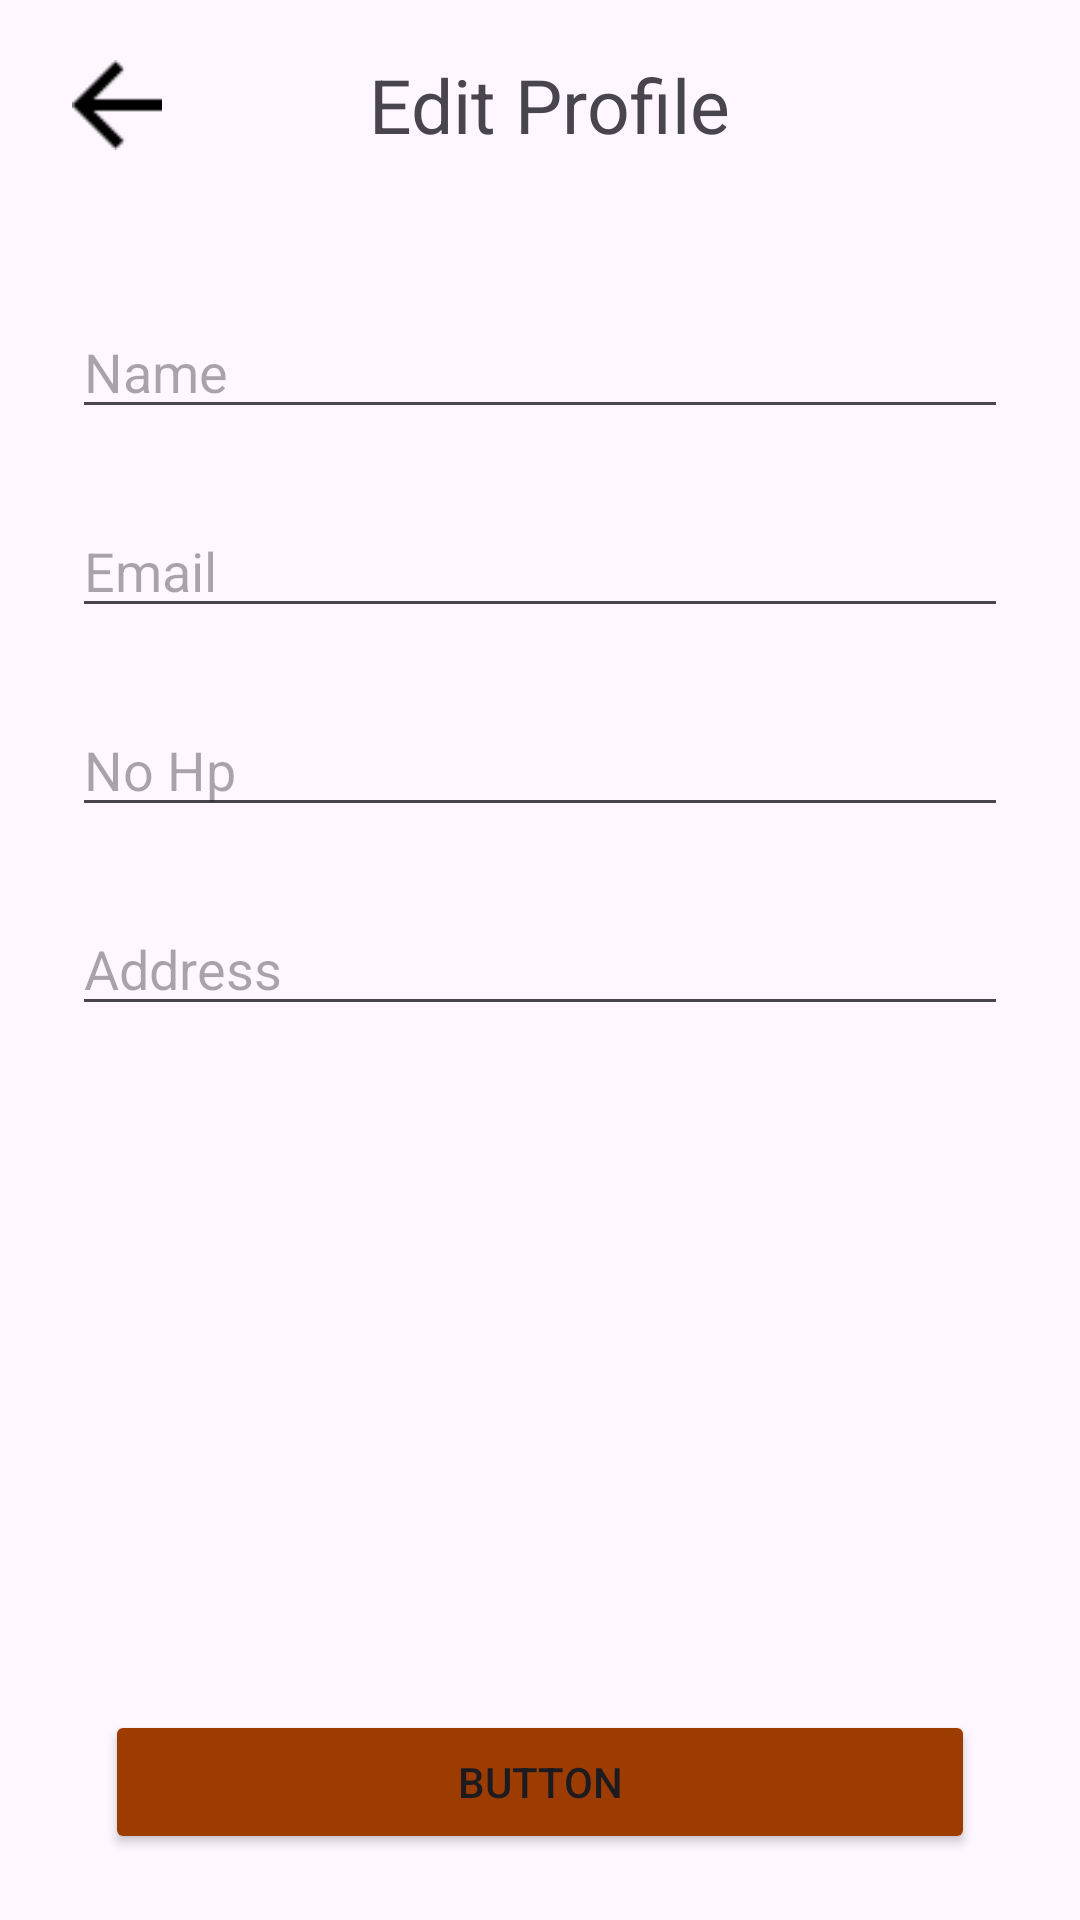

Where to tap for icons on this 1080px x 1920px app screen, as (x=x, y=y):
backblack: (x=117, y=105)
